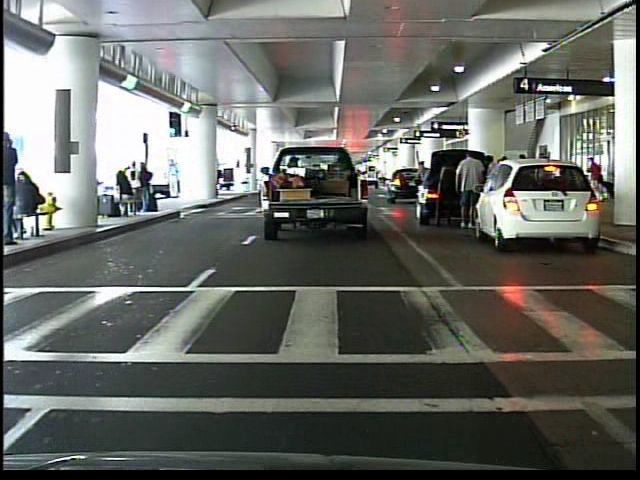person: (454, 146, 486, 234), (429, 151, 460, 230), (6, 130, 24, 247), (582, 153, 608, 203), (412, 157, 431, 211), (166, 157, 184, 200)
